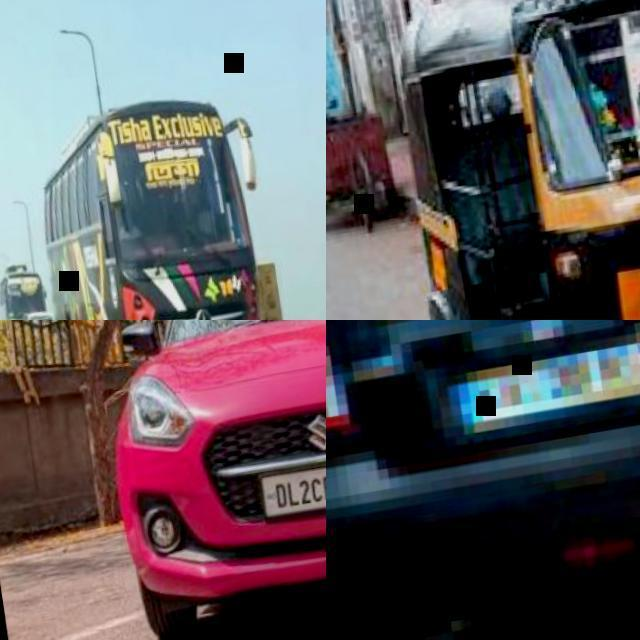car: (416, 6, 639, 303)
